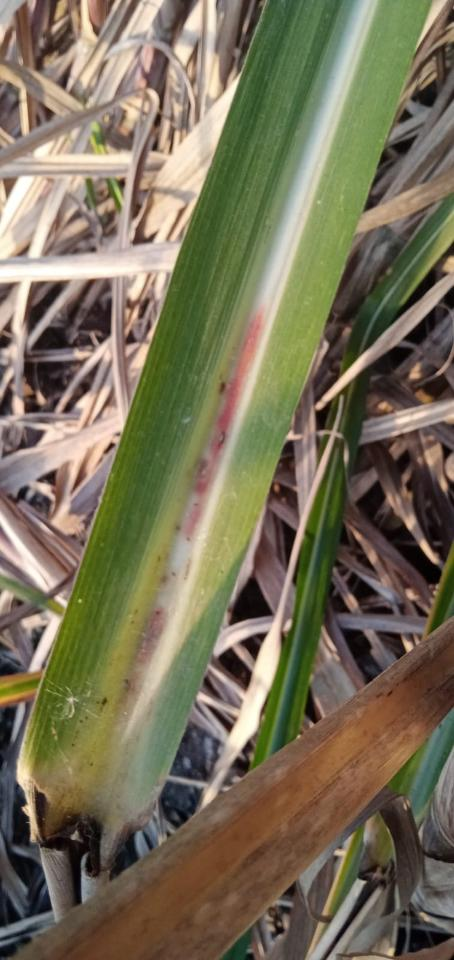RedRot: (182, 304, 266, 540), (115, 604, 166, 733)
